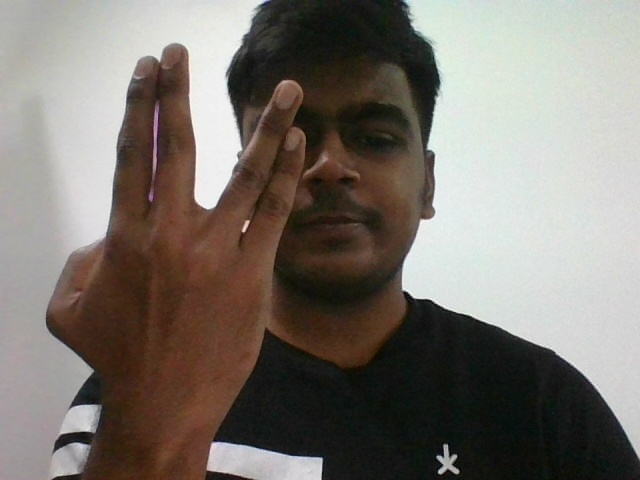livelong: (47, 42, 295, 365)
